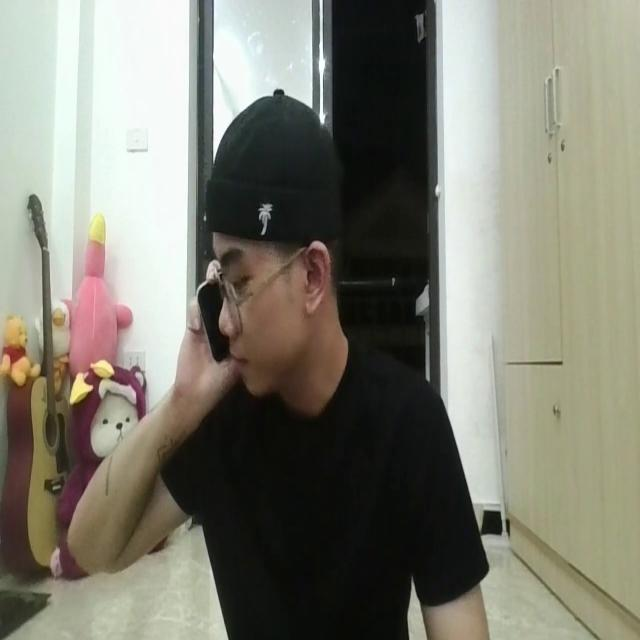phone: (195, 258, 232, 380)
student: (75, 90, 502, 640)
